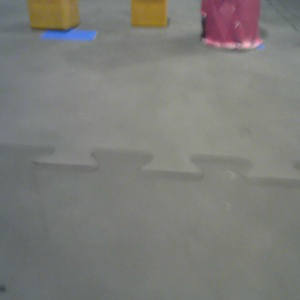Right: (198, 1, 263, 49)
